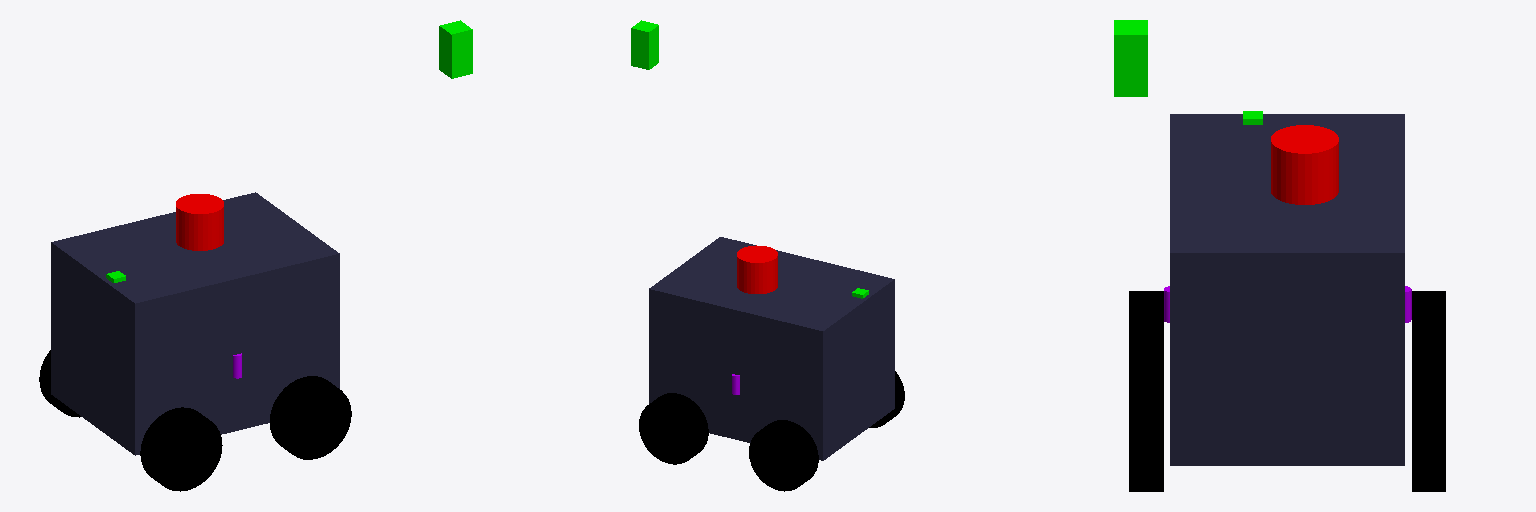
robot.urdf — lwf5000:
<?xml version="1.0"?>
<robot name="lwf5000">
  <material name="black">
    <color rgba="0 0 0 1"/>
  </material>
  <material name="grey">
    <color rgba=".2 .2 .3 1"/>
  </material>
  <material name="imu_blue">
    <color rgba=".02 .06 .24 1"/>
  </material>
  <material name="mag_orange">
    <color rgba=".20 .10 .03 1"/>
  </material>
  <material name="green">
    <color rgba="0 1 0 1"/>
  </material>
  <material name="purple">
    <color rgba=".76 0 1 1"/>
  </material>
  <material name="red">
    <color rgba="1 0 0 1"/>
  </material>
  <!-- Base Link -->
  <link name="base_link">
    <visual>
      <origin xyz="0 0 0.24" rpy="0 0 0"/> <!-- Half height of 13.5 inches (0.343 m) -->
      <geometry>
        <box size="0.483 0.343 0.343"/> <!-- Length: 19", Width: 13.5", Height: 13.5" -->
      </geometry>
      <material name="grey"/>
    </visual>
    <collision>
      <origin xyz="0 0 0.1715" rpy="0 0 0"/>
      <geometry>
        <box size="0.483 0.343 0.343"/>
      </geometry>
    </collision>
  </link>

  <!-- Front Right Wheel -->
  <link name="front_right_wheel">
    <visual>
      <origin xyz="0 -0.035 0" rpy="1.5708 0 0"/> <!-- X, Y, Z in meters -->
      <geometry>
        <cylinder radius="0.08255" length="0.05"/> <!-- Diameter is 6.5 inches -->
      </geometry>
      <material name="black"/>
    </visual>
  </link>

  <joint name="front_right_wheel_joint" type="continuous">
    <parent link="base_link"/>
    <child link="front_right_wheel"/>
    <origin xyz="0.1524 -0.17145 0.0762" rpy="0 0 0" />
    <axis xyz="0 1 0"/>
  </joint>

  <!-- Front Left Wheel -->
  <link name="front_left_wheel">
    <visual>
      <origin xyz="0 0.035 0" rpy="-1.5708 0 0"/>
      <geometry>
        <cylinder radius="0.08255" length="0.05"/>
      </geometry>
      <material name="black"/>
    </visual>
  </link>

  <joint name="front_left_wheel_joint" type="continuous">
    <parent link="base_link"/>
    <child link="front_left_wheel"/>
    <origin xyz="0.1524 0.17145 0.0762" rpy="0 0 0"/>
    <axis xyz="0 1 0"/>
  </joint>

  <!-- Rear Right Wheel -->
  <link name="rear_right_wheel">
    <visual>
      <origin xyz="0 -0.035 0" rpy="1.5708 0 0"/>
      <geometry>
        <cylinder radius="0.08255" length="0.05"/>
      </geometry>
      <material name="black"/>
    </visual>
  </link>

  <joint name="rear_right_wheel_joint" type="continuous">
    <parent link="base_link"/>
    <child link="rear_right_wheel"/>
    <origin xyz="-0.1524 -0.17145 0.0762" rpy="0 0 0"/>
    <axis xyz="0 1 0"/>
  </joint>

  <!-- Rear Left Wheel -->
  <link name="rear_left_wheel">
    <visual>
      <origin xyz="0 0.035 0" rpy="-1.5708 0 0"/>
      <geometry>
        <cylinder radius="0.08255" length="0.05"/>
      </geometry>
      <material name="black"/>
    </visual>
  </link>

  <joint name="rear_left_wheel_joint" type="continuous">
    <parent link="base_link"/>
    <child link="rear_left_wheel"/>
    <origin xyz="-0.1524 0.17145 0.0762" rpy="0 0 0"/>
    <axis xyz="0 1 0"/>
  </joint>

  <!-- IMU Sensor -->
  <link name="imu_link">
    <visual>
      <origin xyz="0 0 0" rpy="0 0 0"/>
      <geometry>
        <box size="0.02 0.02 0.02"/> <!-- Size for IMU -->
      </geometry>
      <material name="imu_blue"/>
    </visual>
  </link>

  <joint name="imu_joint" type="fixed">
    <parent link="base_link"/>
    <child link="imu_link"/>
    <origin xyz="0 0 0.343" rpy="0 0 0"/>
  </joint>

  <!-- Magnetometer 1 -->
  <link name="magnetometer_1">
    <visual>
      <origin xyz="0 0 0" rpy="0 0 0"/>
      <geometry>
        <box size="0.02 0.02 0.02"/>
      </geometry>
      <material name="mag_orange"/>
    </visual>
  </link>

  <joint name="magnetometer_1_joint" type="fixed">
    <parent link="base_link"/>
    <child link="magnetometer_1"/>
    <origin xyz="0 0 0.343" rpy="0 0 0"/>
  </joint>

  <!-- Magnetometer 2 -->
  <link name="magnetometer_2">
    <visual>
      <origin xyz="0 0 0" rpy="0 0 0"/>
      <geometry>
        <box size="0.02 0.02 0.02"/>
      </geometry>
      <material name="mag_orange"/>
    </visual>
  </link>

  <joint name="magnetometer_2_joint" type="fixed">
    <parent link="base_link"/>
    <child link="magnetometer_2"/>
    <origin xyz="-0.0254 -0.1524 0.343" rpy="0 0 0"/>
  </joint>

  <!-- PTZ Camera -->
  <link name="ptz_camera_link">
    <visual>
      <origin xyz="0.2413 -0.1143 0.419" rpy="0 0 0"/>
      <geometry>
        <box size="0.05 0.05 0.1"/> <!-- PTZ camera model -->
      </geometry>
      <material name="green"/>
    </visual>
  </link>

  <joint name="ptz_camera_joint" type="fixed">
    <parent link="base_link"/>
    <child link="ptz_camera_link"/>
    <origin xyz="0.2413 -0.1143 0.419" rpy="0 0 0"/>
  </joint>

  <!-- Lidar -->
  <link name="lidar_link">
    <visual>
      <origin xyz="0 0 0" rpy="0 0 0"/>
      <geometry>
        <cylinder radius="0.05" length="0.1"/> <!-- Simplified lidar -->
      </geometry>
      <material name="red"/>
    </visual>
  </link>

  <joint name="lidar_joint" type="fixed">
    <parent link="base_link"/>
    <child link="lidar_link"/>
    <origin xyz="0.0254 0.0254 0.4445" rpy="0 0 0"/>
  </joint>

  <!-- RGB-D Camera -->
  <link name="rgbd_camera">
    <visual>
      <origin xyz="0 0 0" rpy="0 0 0"/> <!-- Front RGB-D Camera -->
      <geometry>
        <box size="0.03 0.03 0.05"/> <!-- Simplified depth camera -->
      </geometry>
      <material name="green"/>
    </visual>
  </link>

  <joint name="rgbd_camera_joint" type="fixed">
    <parent link="base_link"/>
    <child link="rgbd_camera"/>
    <origin xyz="0.2159 0 0.3556" rpy="0 0 0"/>
  </joint>

  <!-- Front Sonar -->
  <link name="front_sonar">
    <visual>
      <origin xyz="0 0 0" rpy="0 0 0"/>
      <geometry>
        <cylinder radius="0.01" length="0.05"/> <!-- Sonar model -->
      </geometry>
      <material name="purple"/>
    </visual>
  </link>

  <joint name="front_sonar_joint" type="fixed">
    <parent link="base_link"/>
    <child link="front_sonar"/>
    <origin xyz="0.2032 0 0.2159" rpy="0 0 0"/>
  </joint>

  <!-- Right Sonar -->
  <link name="right_sonar">
    <visual>
      <origin xyz="0 0 0" rpy="0 0 -1.5708"/> <!-- Pointing right -->
      <geometry>
        <cylinder radius="0.01" length="0.05"/>
      </geometry>
      <material name="purple"/>
    </visual>
  </link>

  <joint name="right_sonar_joint" type="fixed">
    <parent link="base_link"/>
    <child link="right_sonar"/>
    <origin xyz="0 -0.17145 0.2159" rpy="0 0 -1.5708"/>
  </joint>

  <!-- Left Sonar -->
  <link name="left_sonar">
    <visual>
      <origin xyz="0 0 0" rpy="0 0 1.5708"/> <!-- Pointing left -->
      <geometry>
        <cylinder radius="0.01" length="0.05"/>
      </geometry>
      <material name="purple"/>
    </visual>
  </link>

  <joint name="left_sonar_joint" type="fixed">
    <parent link="base_link"/>
    <child link="left_sonar"/>
    <origin xyz="0 0.17145 0.2159" rpy="0 0 1.5708"/>
  </joint>

  <!-- Rear Sonar -->
  <link name="rear_sonar">
    <visual>
      <origin xyz="0 0 0" rpy="0 0 3.14159"/> <!-- Pointing backward -->
      <geometry>
        <cylinder radius="0.01" length="0.05"/>
      </geometry>
      <material name="purple"/>
    </visual>
  </link>

  <joint name="rear_sonar_joint" type="fixed">
    <parent link="base_link"/>
    <child link="rear_sonar"/>
    <origin xyz="-0.2032 0 0.2159" rpy="0 0 3.14159"/>
  </joint>

  <!-- Front Camera -->
  <link name="front_camera">
    <visual>
      <origin xyz="0 0 0" rpy="0 0 0"/>
      <geometry>
        <box size="0.03 0.03 0.03"/> <!-- Simplified camera model -->
      </geometry>
      <material name="green"/>
    </visual>
  </link>

  <joint name="front_camera_joint" type="fixed">
    <parent link="base_link"/>
    <child link="front_camera"/>
    <origin xyz="0.2159 0.0508 0.3556" rpy="0 0 0"/>
  </joint>

  <!-- Rear Camera -->
  <link name="rear_camera">
    <visual>
      <origin xyz="0 0 0" rpy="0 0 3.14159"/>
      <geometry>
        <box size="0.03 0.03 0.03"/>
      </geometry>
      <material name="green"/>
    </visual>
  </link>

  <joint name="rear_camera_joint" type="fixed">
    <parent link="base_link"/>
    <child link="rear_camera"/>
    <origin xyz="-0.2159 -0.0508 0.4064" rpy="0 0 3.14159"/>
  </joint>

</robot>

--- What the picture shows (computed from the rendered views, not written in the file) ---
The picture shows the robot from 3 angles, left to right: view 1: azimuth 30°, elevation 25°; view 2: azimuth 150°, elevation 25°; view 3: azimuth 270°, elevation 25°; orthographic projection.
Robot: lwf5000 — 17 links, 16 joints (4 continuous, 12 fixed); root link base_link; default pose: every joint at zero.
Links seen in each view (by area): view 1: base_link, rear_right_wheel, front_right_wheel, lidar_link, ptz_camera_link, rear_left_wheel; view 2: base_link, front_left_wheel, rear_left_wheel, lidar_link, ptz_camera_link; view 3: base_link, lidar_link, front_right_wheel, front_left_wheel, rear_right_wheel, rear_left_wheel, ptz_camera_link.
Link boxes in pixels (x1=…): base_link: x1=51, y1=192, x2=339, y2=455; rear_right_wheel: x1=140, y1=407, x2=222, y2=491; front_right_wheel: x1=270, y1=376, x2=351, y2=459; lidar_link: x1=176, y1=194, x2=223, y2=250; ptz_camera_link: x1=439, y1=20, x2=472, y2=78; rear_left_wheel: x1=39, y1=350, x2=80, y2=417; base_link: x1=649, y1=237, x2=894, y2=460; front_left_wheel: x1=639, y1=393, x2=708, y2=464; rear_left_wheel: x1=749, y1=420, x2=818, y2=491; lidar_link: x1=737, y1=245, x2=777, y2=293; ptz_camera_link: x1=631, y1=20, x2=658, y2=69; base_link: x1=1170, y1=114, x2=1404, y2=465; lidar_link: x1=1271, y1=125, x2=1338, y2=204; front_right_wheel: x1=1129, y1=379, x2=1163, y2=491; front_left_wheel: x1=1412, y1=379, x2=1445, y2=491; rear_right_wheel: x1=1129, y1=291, x2=1163, y2=378; rear_left_wheel: x1=1412, y1=291, x2=1445, y2=378; ptz_camera_link: x1=1114, y1=20, x2=1147, y2=96.
Size in the robot's own frame: 0.7491 by 0.4851 by 0.8944 metres.
Geometry: primitives only (box / cylinder / sphere), no mesh files.